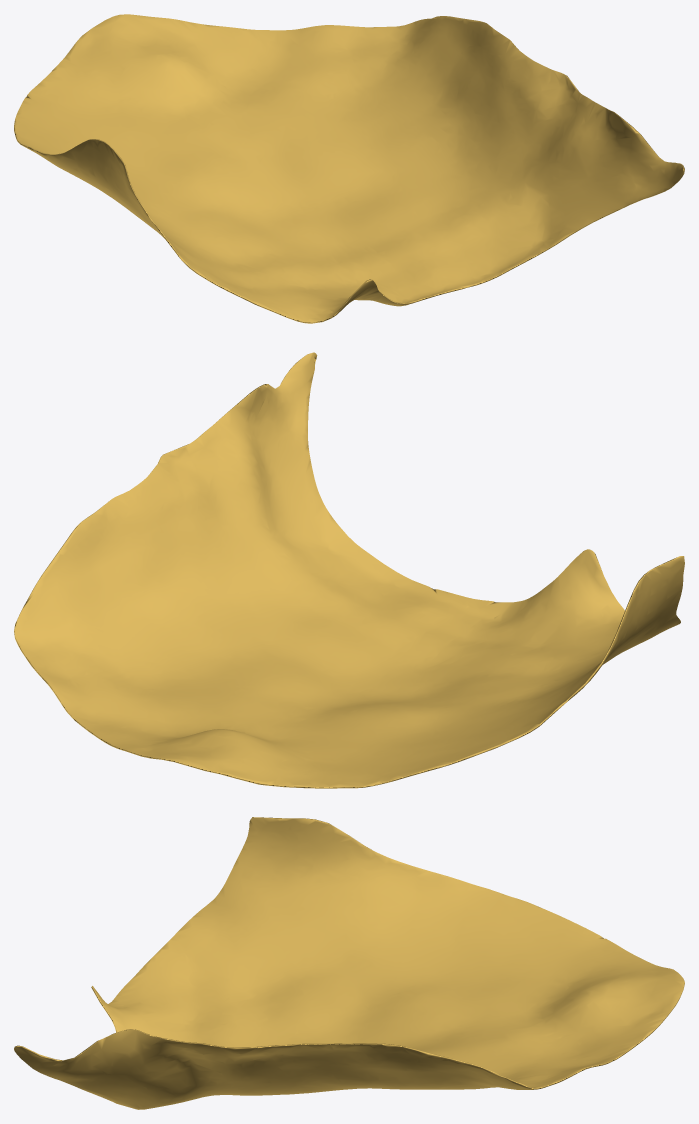
3 views of the same model, one above another, from view 1: azimuth 30°, elevation 25°; view 2: azimuth 150°, elevation 25°; view 3: azimuth 270°, elevation 25° (orthographic). The views are drawn at different scales.
Visible parts, largest first — view 1: 大网膜; view 2: 大网膜; view 3: 大网膜.
Boxes of the visible parts, bbox=[...] form: 大网膜: bbox=[14, 14, 684, 323]; 大网膜: bbox=[14, 352, 684, 788]; 大网膜: bbox=[14, 817, 684, 1109].
Bounding box in the file's own units: 0.3121 × 0.1023 × 0.4175.
